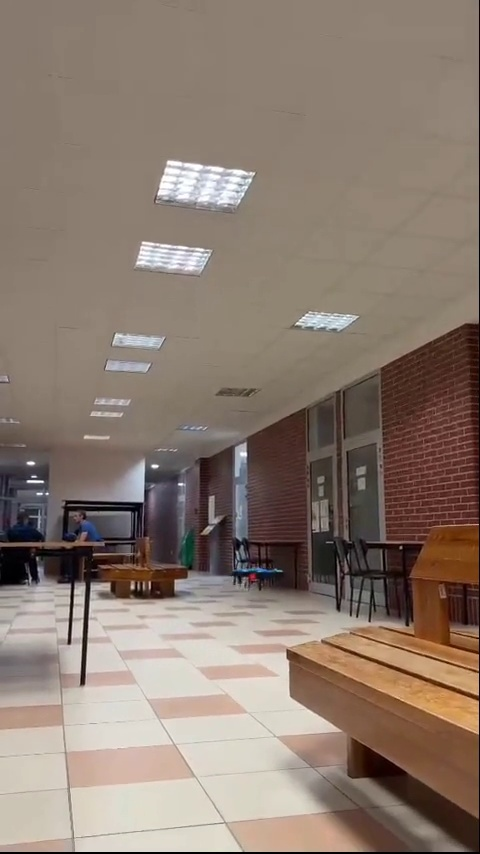drone: (224, 562, 286, 595)
no vest: (59, 500, 110, 593), (5, 502, 41, 581)
